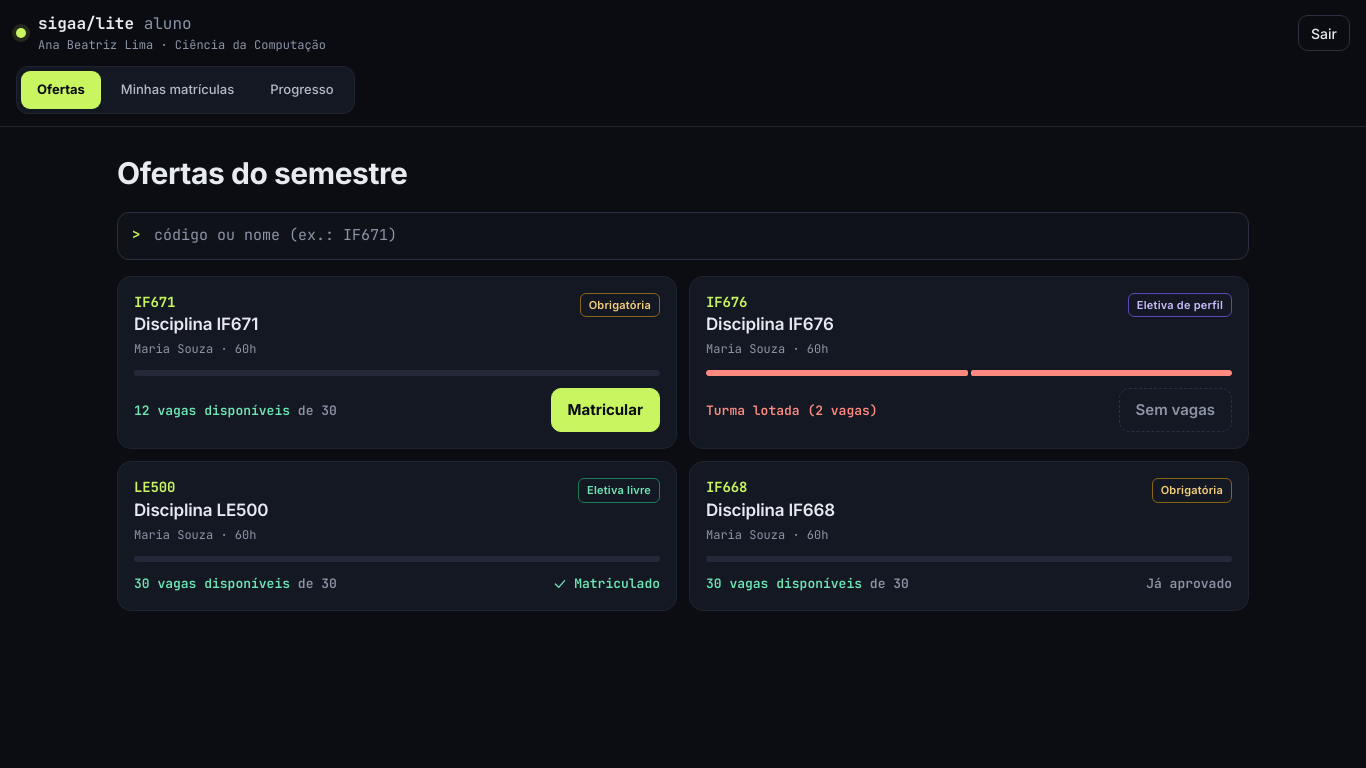
Test: Ofertas › matricula, avisa o sucesso e recarrega as ofertas
The image size is (1366, 768).
Check: the heading "IF671 Disciplina IF671" is shown, box [134,292,258,336]
Click the button with aria-label "Matricular em IF671": {"x": 605, "y": 410} [550,388,660,432]
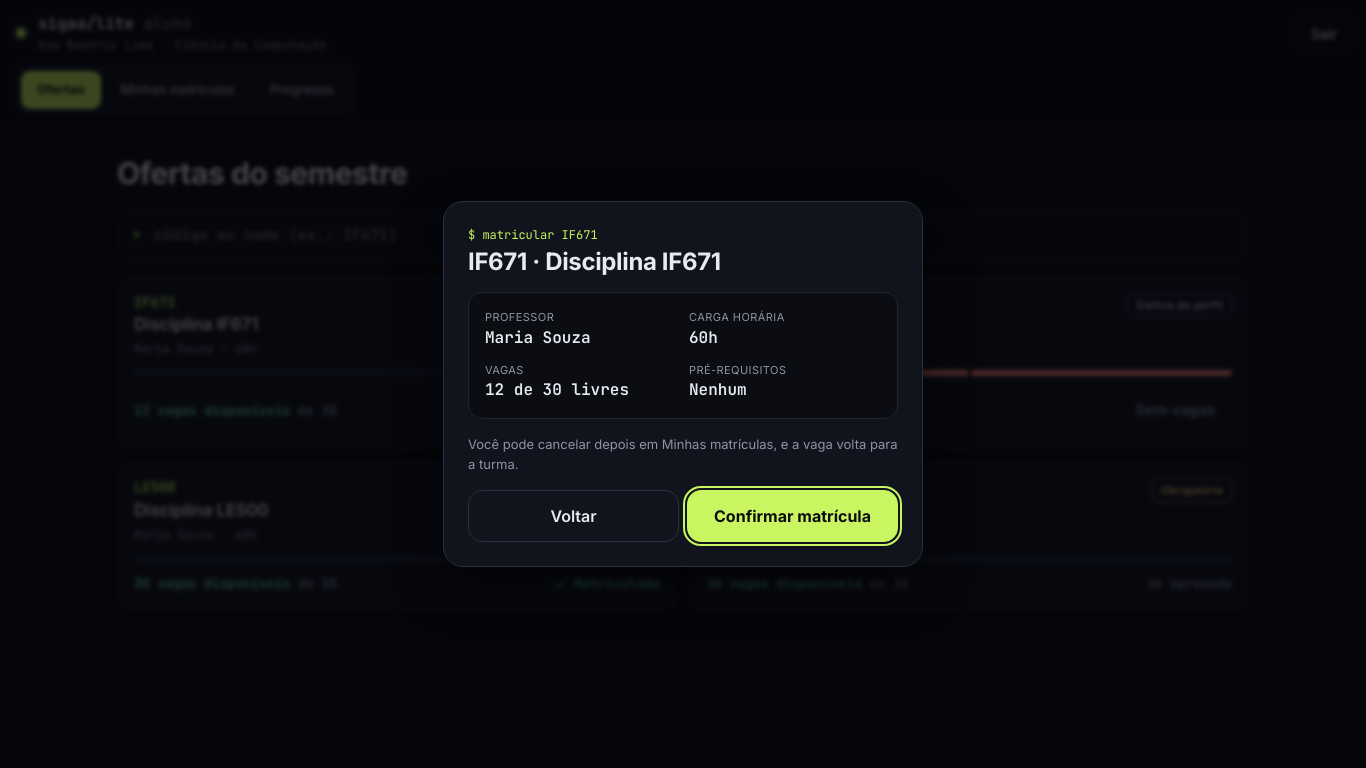
Click the button "Confirmar matrícula": {"x": 792, "y": 516} [687,490,898,542]
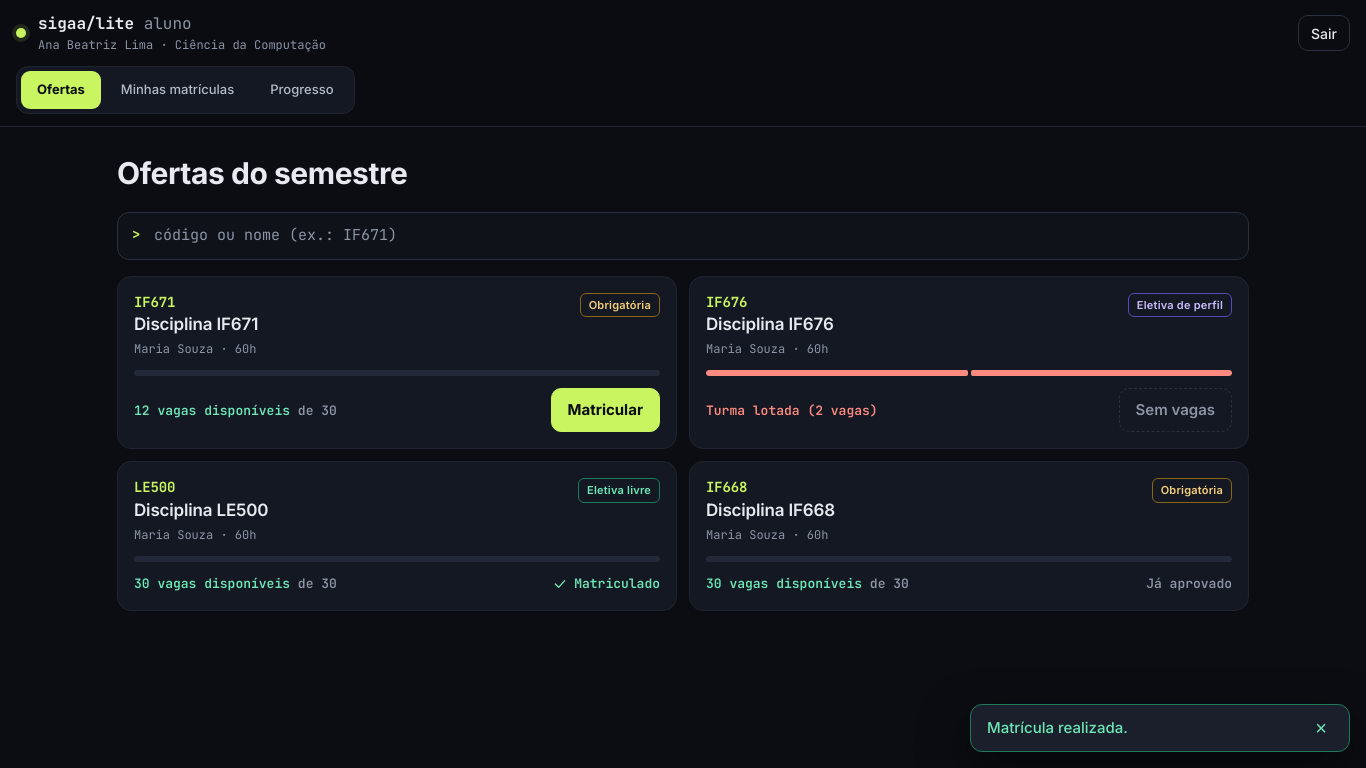
Check: the text "Matrícula realizada." is shown, box [987,716,1128,739]
Check: the dialog is gone
